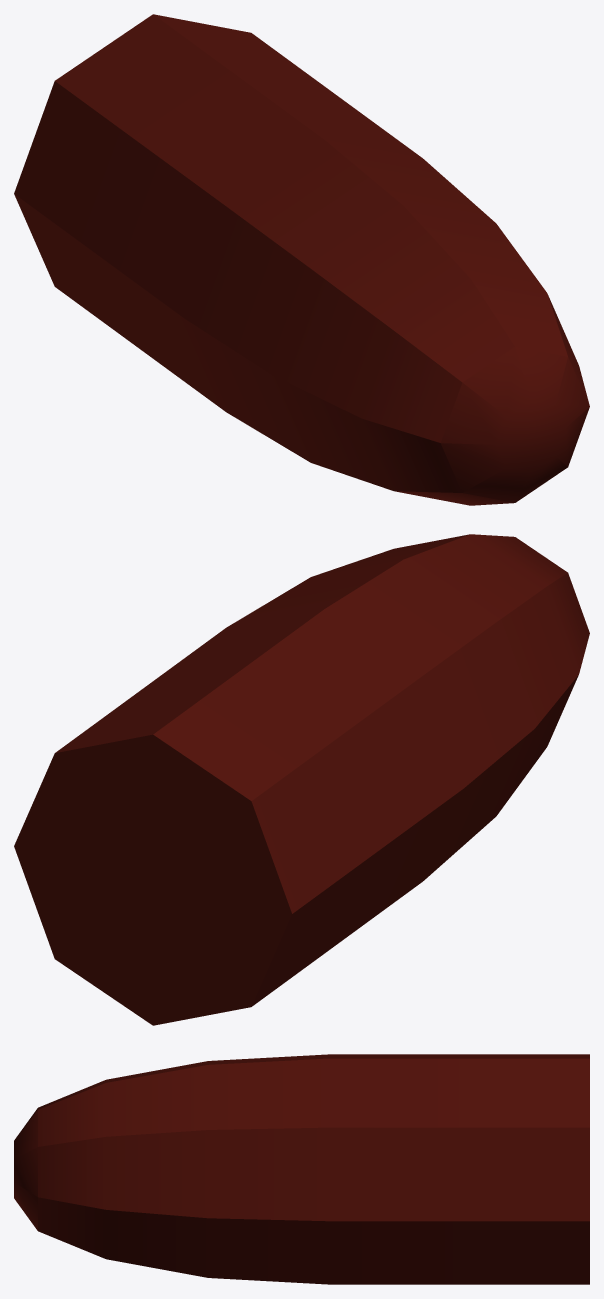
File: Bullet.fbx
3 views of the same model, one above another, from view 1: azimuth 30°, elevation 25°; view 2: azimuth 150°, elevation 25°; view 3: azimuth 270°, elevation 25° (orthographic). The views are drawn at different scales.
Visible parts, largest first — view 1: Mesh; view 2: Mesh; view 3: Mesh.
Part boxes in pixels (x1,y1,x2,y2): Mesh: [14, 14, 589, 505]; Mesh: [14, 534, 589, 1025]; Mesh: [14, 1054, 589, 1284].
Bounding box in the file's own units: 664 × 664 × 1562.
